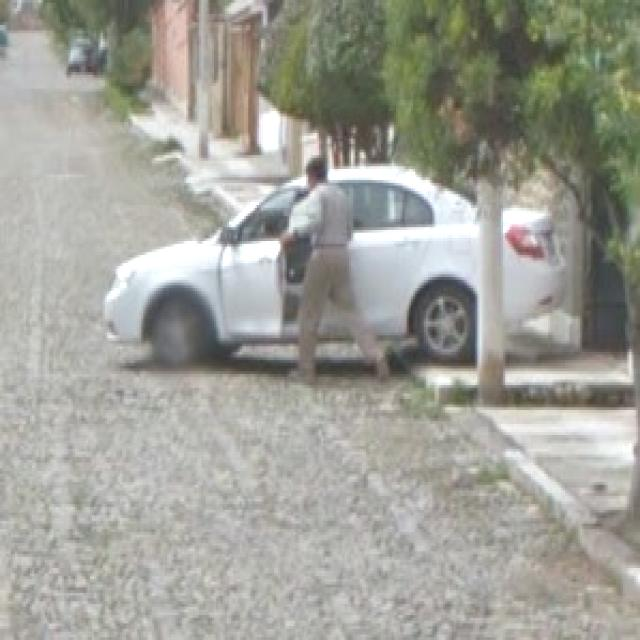car: (106, 161, 572, 383)
